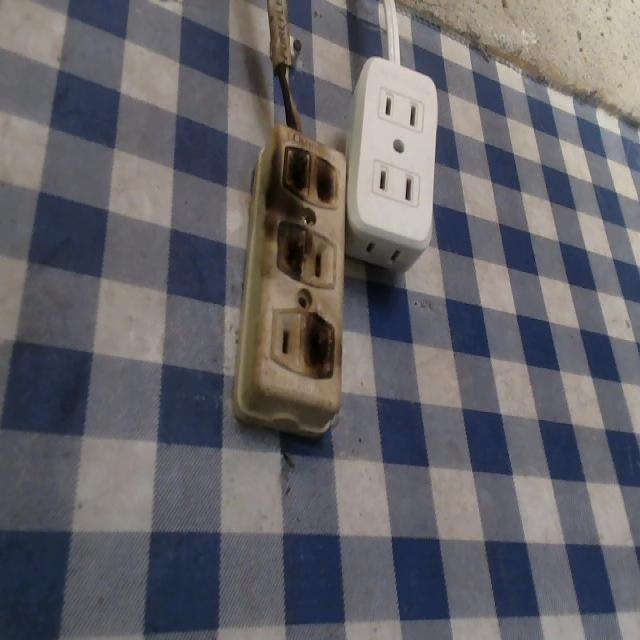-: (275, 132, 340, 213), (295, 309, 343, 396), (258, 212, 311, 284)
